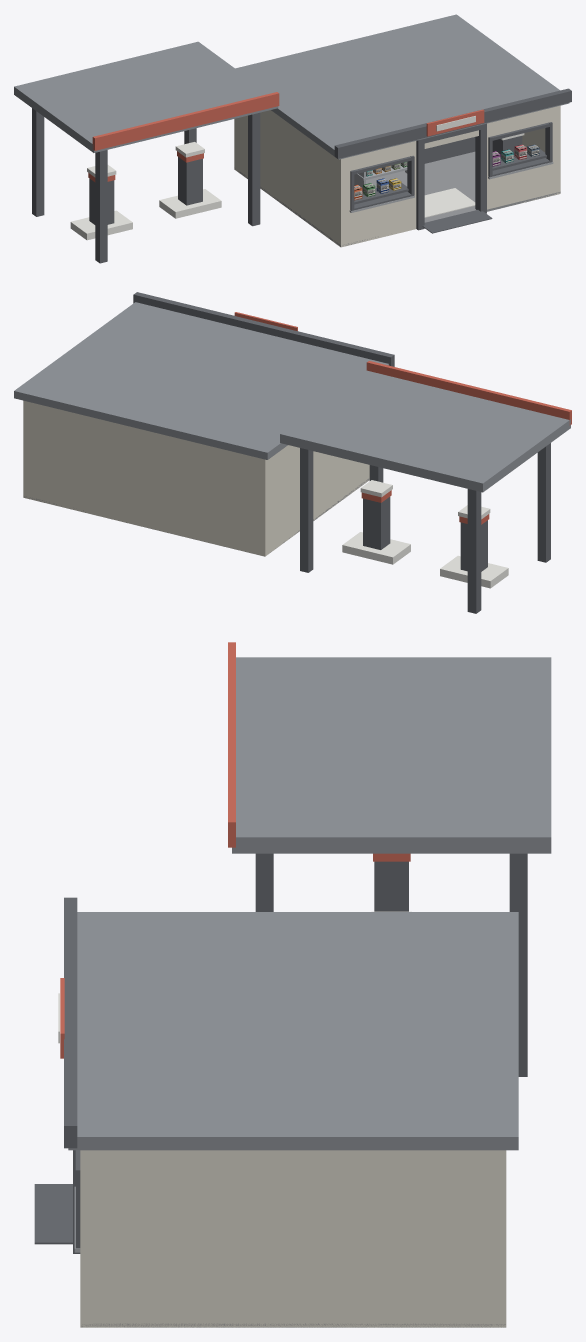
File: rv_gasstation.gltf
3 renders of one model, top to bottom at view 1: azimuth 30°, elevation 25°; view 2: azimuth 150°, elevation 25°; view 3: azimuth 270°, elevation 25°, orthographic. The views are drawn at different scales.
Visible parts, largest first — view 1: RV_GasStation; view 2: RV_GasStation; view 3: RV_GasStation.
Boxes of the visible parts, left/top/right/bottom form: RV_GasStation: left=14, top=14, right=571, bottom=263; RV_GasStation: left=14, top=292, right=571, bottom=613; RV_GasStation: left=34, top=642, right=551, bottom=1327.
Size of the model in its own units: 12.3 by 4.2 by 6.31.
Materials: 15 (1 with a texture image).
